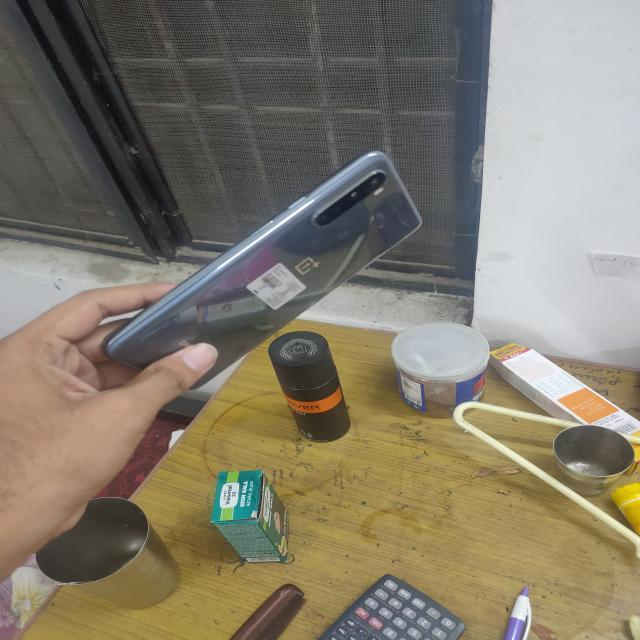Phone: (99, 146, 424, 390)
